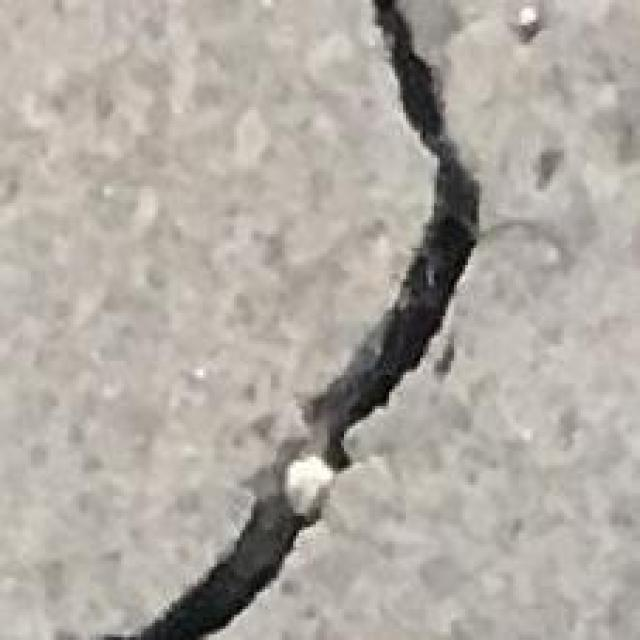Crack: (93, 3, 491, 640)
